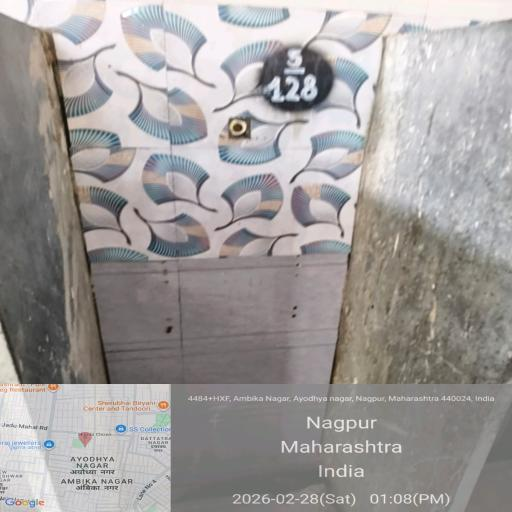clean_floor: (64, 63, 372, 512)
